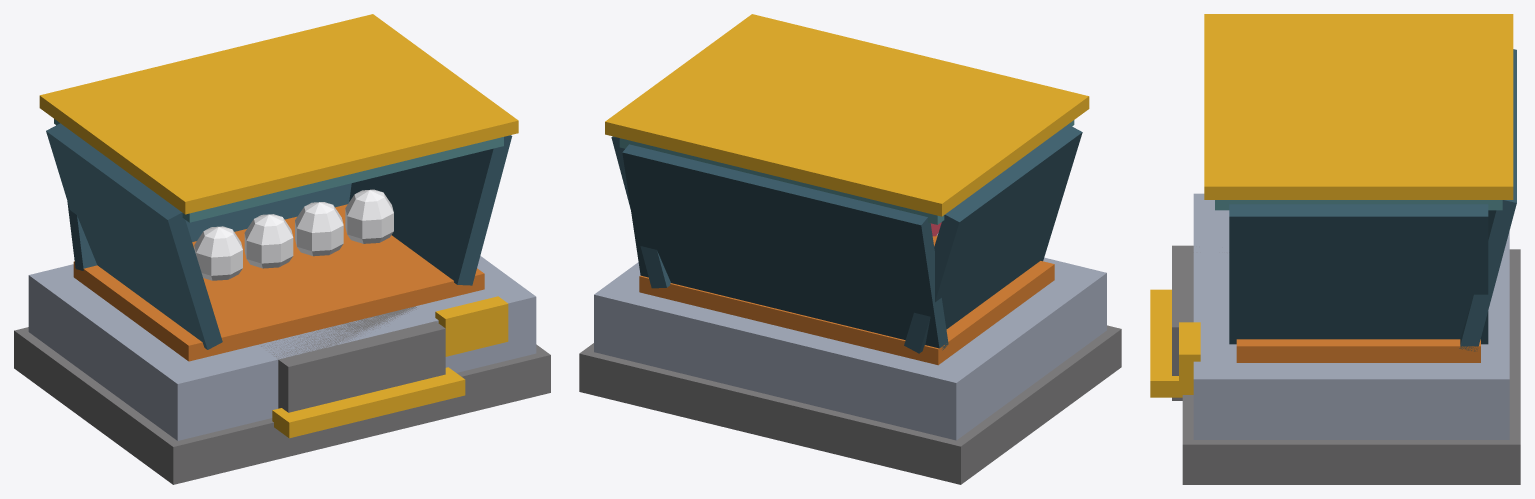
File: hatchery.glb
3 renders of one model, left to right at view 1: azimuth 30°, elevation 25°; view 2: azimuth 150°, elevation 25°; view 3: azimuth 270°, elevation 25°, orthographic. The views are drawn at different scales.
Parts seen in each view (by area): view 1: hatchery; view 2: hatchery; view 3: hatchery.
Boxes of the visible parts, x1,y1,x2,y2 form: hatchery: (14, 14, 550, 484); hatchery: (579, 14, 1121, 484); hatchery: (1150, 14, 1520, 484).
Bounding box in the file's own units: 1.25 × 0.855 × 1.
